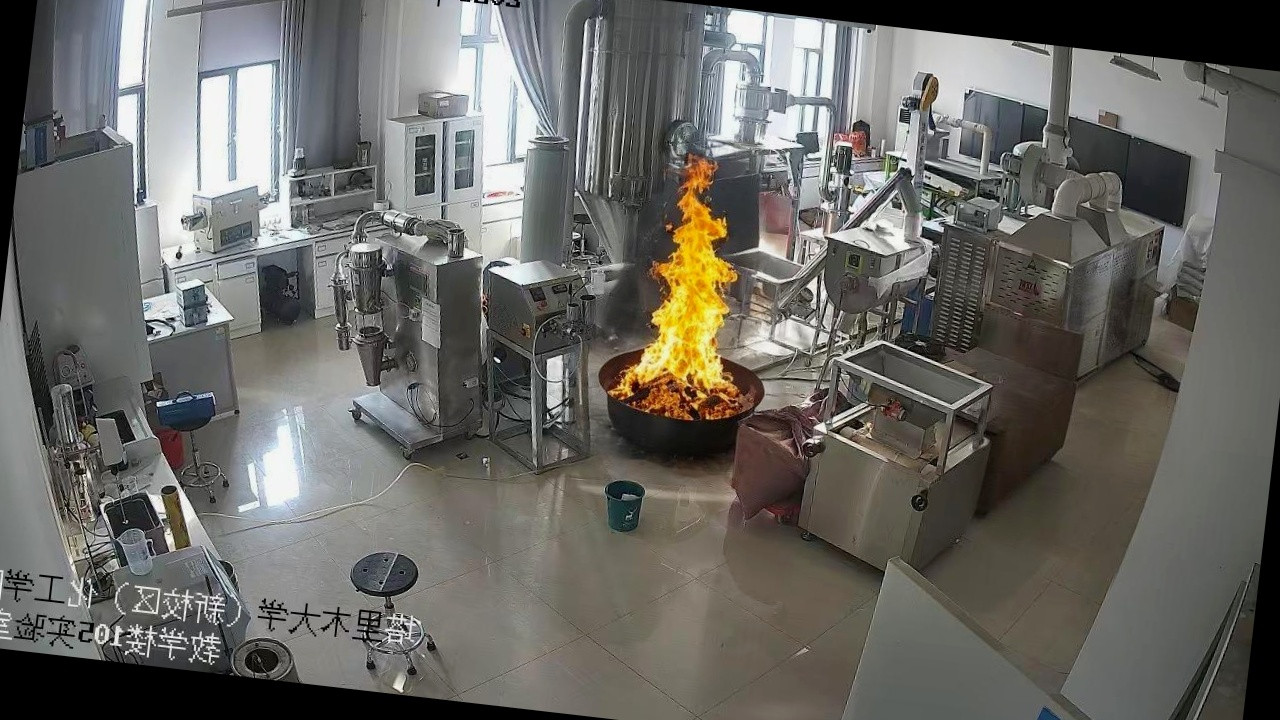fire: (586, 155, 768, 439)
